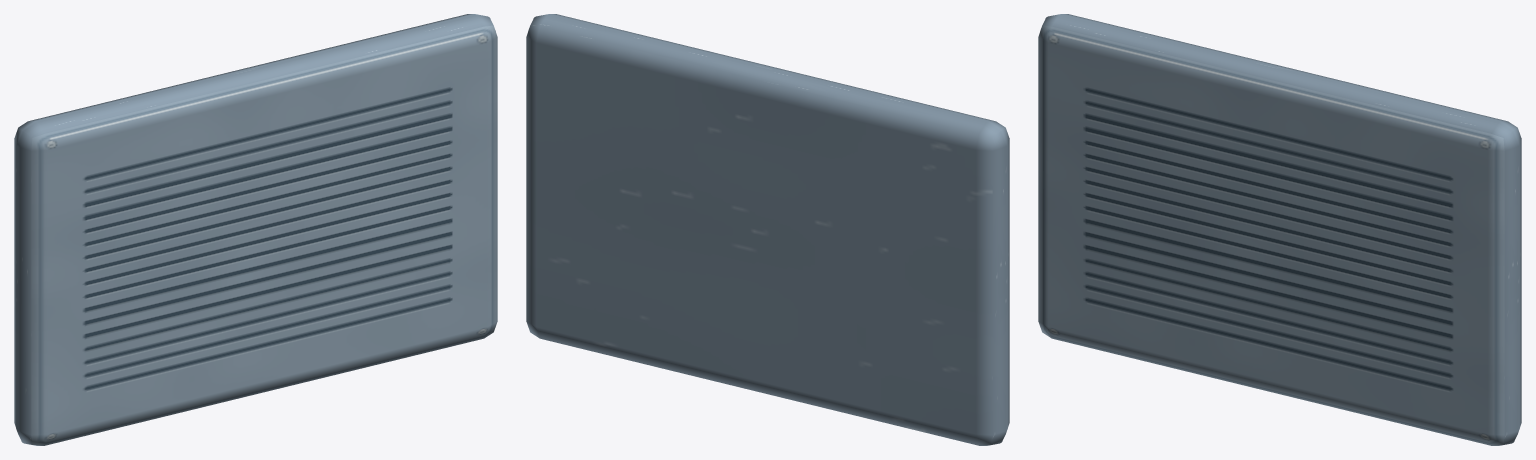
Rendered from SM_VentPanel.glb.
The picture shows the model from 3 angles, left to right: view 1: azimuth 30°, elevation 25°; view 2: azimuth 150°, elevation 25°; view 3: azimuth 330°, elevation 25°; orthographic projection.
Parts seen in each view (by area): view 1: SM_VentPanel; view 2: SM_VentPanel; view 3: SM_VentPanel.
Part boxes in pixels (bbox=[...]): SM_VentPanel: bbox=[14, 14, 497, 445]; SM_VentPanel: bbox=[526, 14, 1009, 445]; SM_VentPanel: bbox=[1038, 14, 1521, 445].
Bounding box in the file's own units: 0.88 × 0.57 × 0.075.
1 material, 1 textured.
